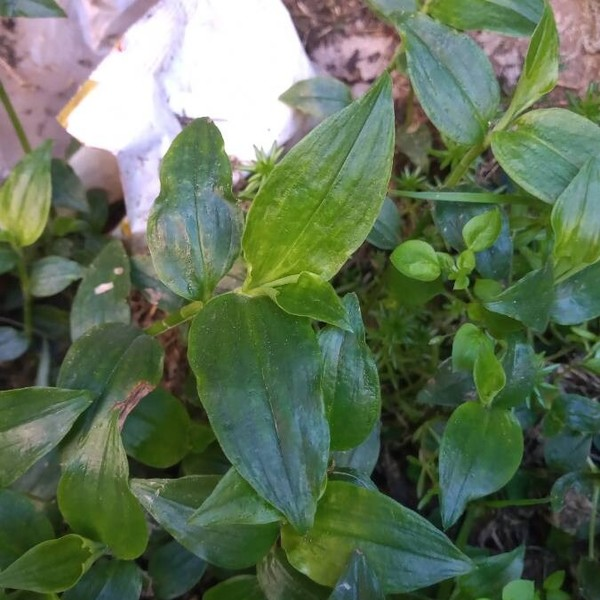obstacle: (46, 109, 535, 544)
